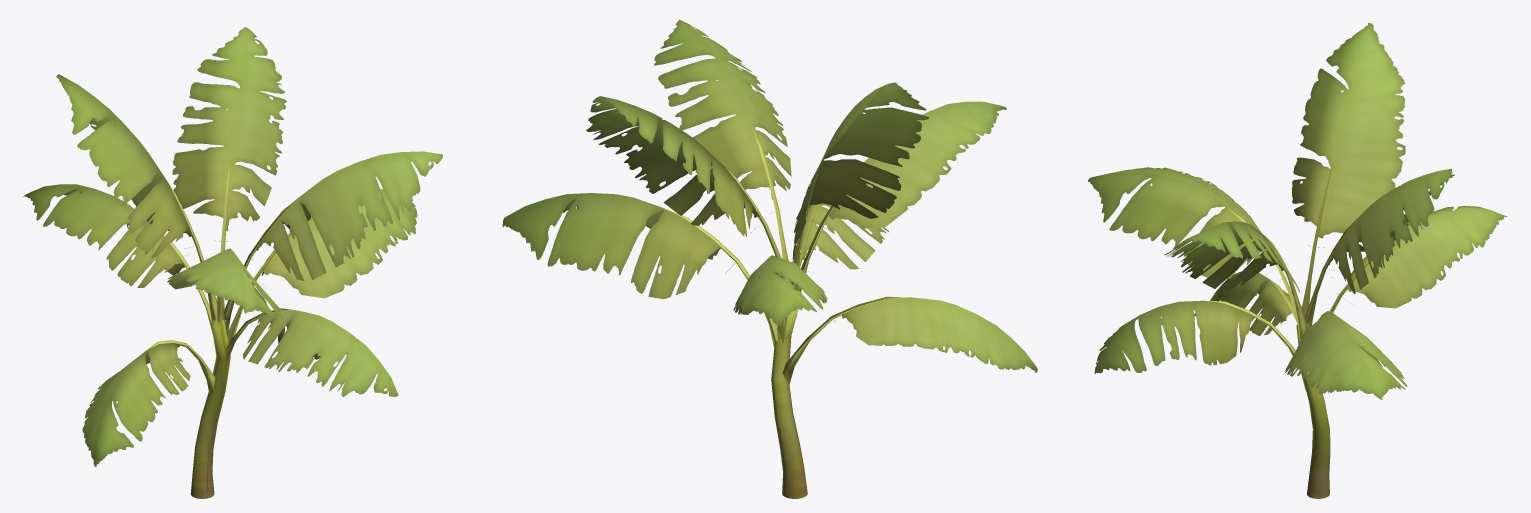
File: banana plant 01.obj
3 views of the same model, side by side, from view 1: azimuth 30°, elevation 25°; view 2: azimuth 150°, elevation 25°; view 3: azimuth 270°, elevation 25° (orthographic). The views are drawn at different scales.
Visible parts, largest first — view 1: tree; view 2: tree; view 3: tree.
Part boxes in pixels (left/top/right/bottom): tree: left=23, top=27, right=442, bottom=498; tree: left=502, top=19, right=1037, bottom=498; tree: left=1088, top=23, right=1507, bottom=498.
Bounding box in the file's own units: 278 × 272 × 260.
